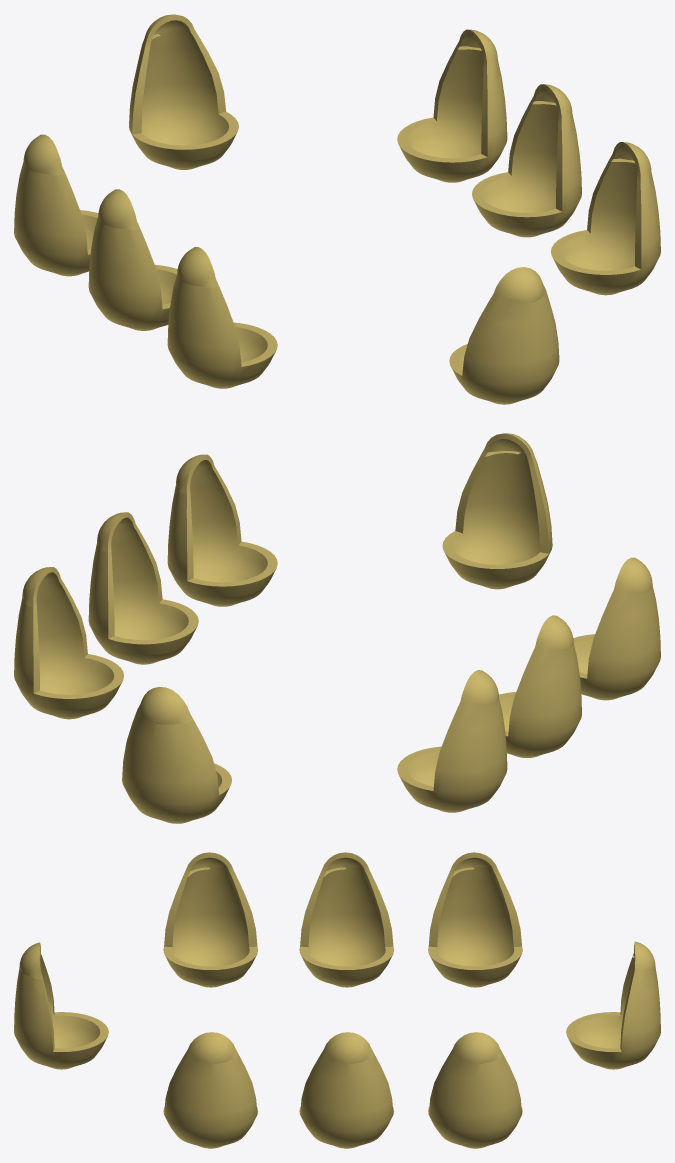
File: Silla.fbx
3 views of the same model, one above another, from view 1: azimuth 30°, elevation 25°; view 2: azimuth 150°, elevation 25°; view 3: azimuth 270°, elevation 25° (orthographic). The views are drawn at different scales.
Visible parts, largest first — view 1: Silla; view 2: Silla; view 3: Silla.
Boxes of the visible parts, x1,y1,x2,y2 form: Silla: (14, 14, 660, 404); Silla: (14, 433, 660, 823); Silla: (14, 852, 660, 1148).
Bounding box in the file's own units: 640 × 177 × 870.
